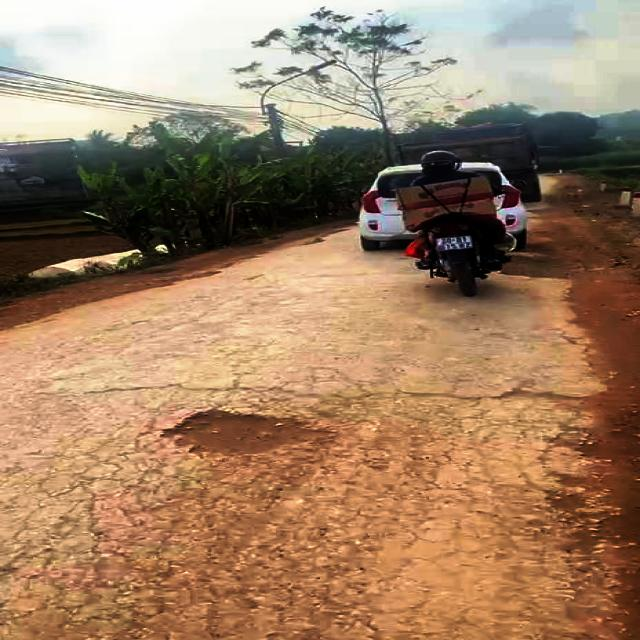pothole: (154, 407, 334, 463)
